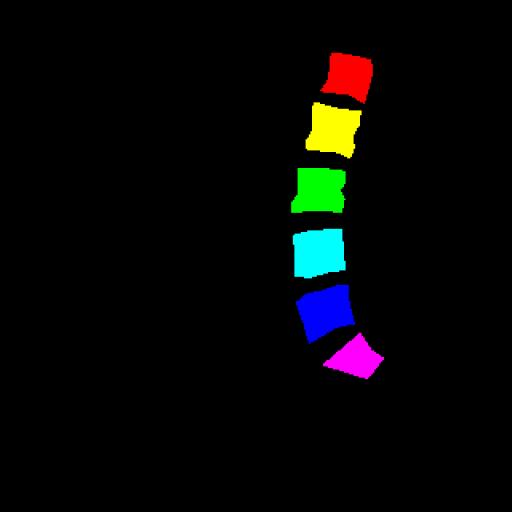L1: (320, 53, 373, 102)
L2: (306, 102, 361, 158)
L3: (291, 168, 345, 212)
L4: (293, 229, 346, 278)
L5: (296, 285, 355, 342)
S1: (323, 333, 384, 378)
